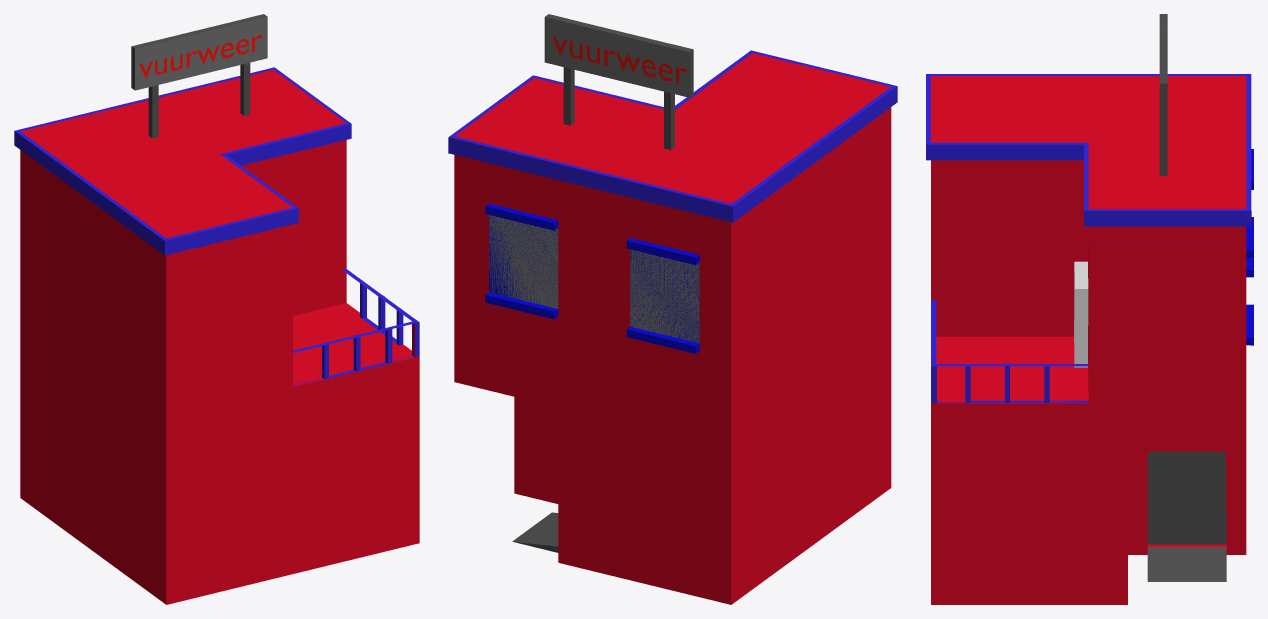
The model's file is brandweer.fbx.
The picture shows the model from 3 angles, left to right: view 1: azimuth 30°, elevation 25°; view 2: azimuth 150°, elevation 25°; view 3: azimuth 270°, elevation 25°; orthographic projection. The views are drawn at different scales.
Parts seen in each view (by area): view 1: Cube, Text.001; view 2: Cube, Text; view 3: Cube.
Boxes of the visible parts, left/top/right/bottom form: Cube: left=14, top=14, right=419, bottom=604; Text.001: left=139, top=35, right=262, bottom=77; Cube: left=448, top=14, right=897, bottom=604; Text: left=553, top=36, right=686, bottom=83; Cube: left=926, top=14, right=1253, bottom=604.
Bounding box in the file's own units: 206 × 347 × 208.
